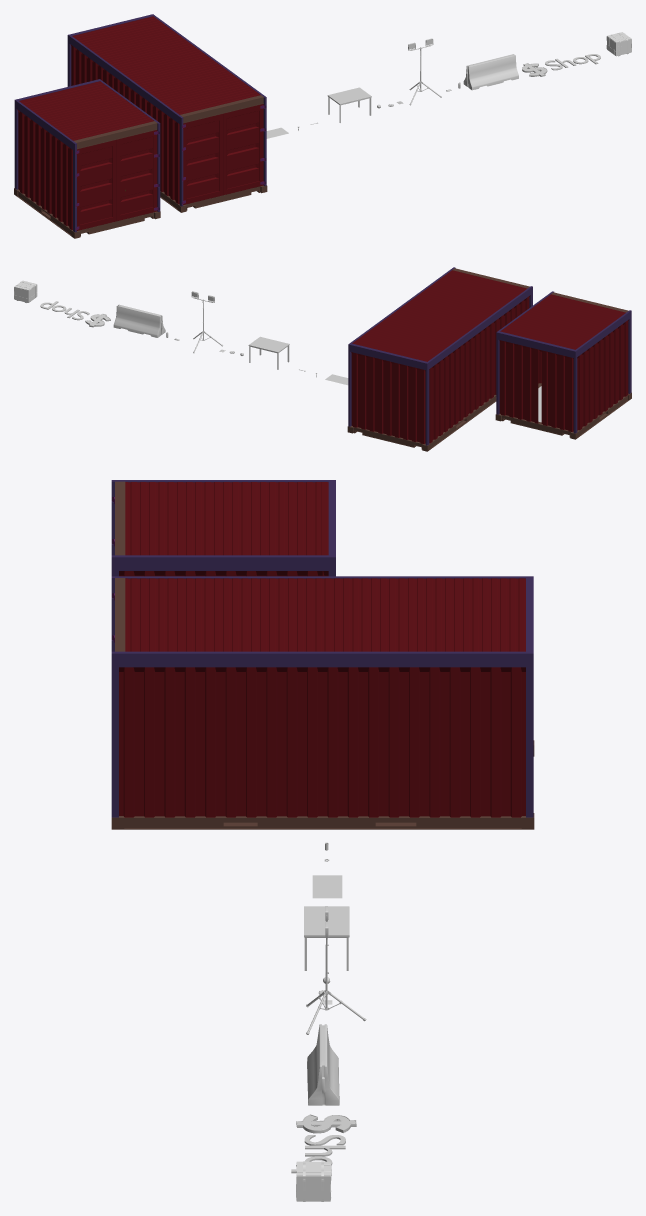
Rendered from EnvironmentAndProps.fbx.
3 views of the same model, one above another, from view 1: azimuth 30°, elevation 25°; view 2: azimuth 150°, elevation 25°; view 3: azimuth 270°, elevation 25° (orthographic). The views are drawn at different scales.
Parts seen in each view (by area): view 1: Container_Big, Container_Small, Concrete_Barriers, Shop, Table, CHEST; view 2: Container_Big, Container_Small, Concrete_Barriers, Shop, Table, CHEST; view 3: Container_Big, Container_Small, Concrete_Barriers, Table, Shop, CHEST.
Part boxes in pixels (x1=…): Container_Big: x1=67, y1=14, x2=267, y2=212; Container_Small: x1=14, y1=79, x2=160, y2=238; Concrete_Barriers: x1=463, y1=54, x2=518, y2=90; Shop: x1=522, y1=54, x2=600, y2=76; Table: x1=327, y1=87, x2=371, y2=122; CHEST: x1=606, y1=32, x2=631, y2=56; Container_Big: x1=347, y1=267, x2=532, y2=451; Container_Small: x1=495, y1=291, x2=631, y2=439; Concrete_Barriers: x1=113, y1=304, x2=165, y2=337; Shop: x1=40, y1=301, x2=110, y2=327; Table: x1=248, y1=336, x2=289, y2=369; CHEST: x1=14, y1=280, x2=37, y2=302; Container_Big: x1=111, y1=576, x2=534, y2=829; Container_Small: x1=111, y1=480, x2=335, y2=576; Concrete_Barriers: x1=307, y1=1024, x2=339, y2=1105; Table: x1=304, y1=906, x2=349, y2=970; Shop: x1=291, y1=1114, x2=356, y2=1175; CHEST: x1=296, y1=1161, x2=331, y2=1201.
Bounding box in the file's own units: 1712 × 265 × 556.
